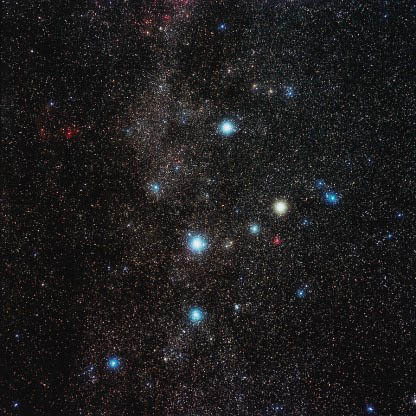Cassiopeia: (242, 193, 291, 235), (206, 107, 252, 149), (179, 301, 217, 335), (176, 227, 213, 257), (94, 347, 126, 378)
